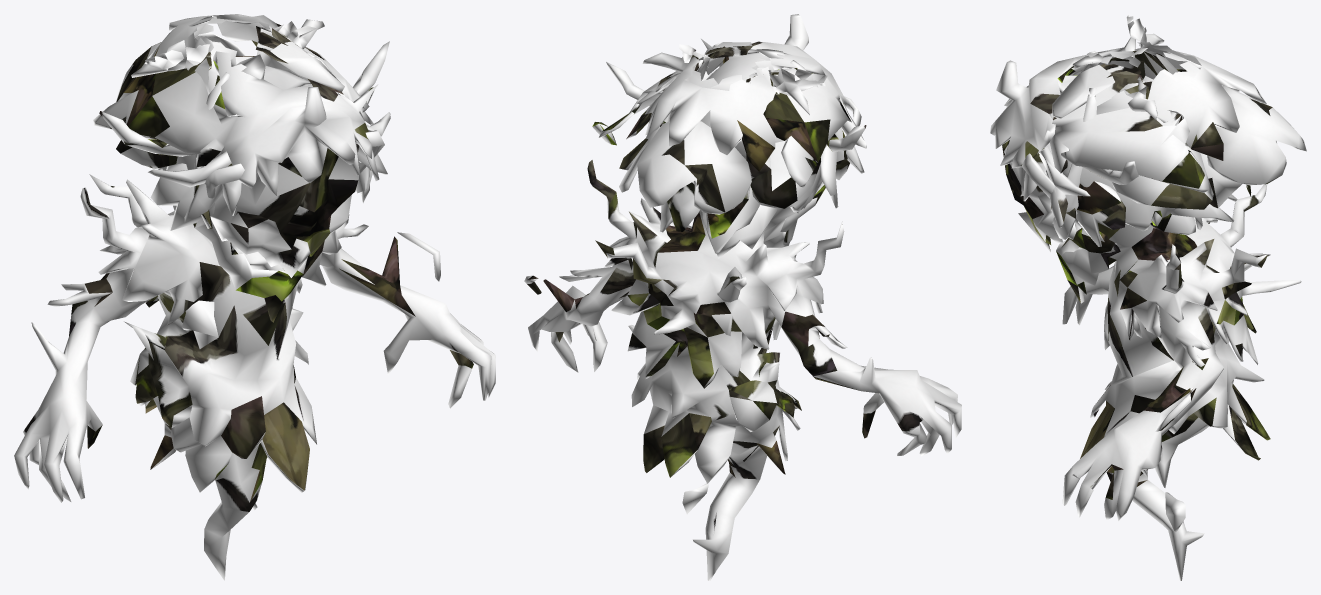
File: wither_sprite_basic_5k.fbx
The picture shows the model from 3 angles, left to right: view 1: azimuth 30°, elevation 25°; view 2: azimuth 150°, elevation 25°; view 3: azimuth 270°, elevation 25°; orthographic projection. The views are drawn at different scales.
Parts seen in each view (by area): view 1: wither_sprite_basic_decimated; view 2: wither_sprite_basic_decimated; view 3: wither_sprite_basic_decimated.
Boxes of the visible parts, left/top/right/bottom form: wither_sprite_basic_decimated: left=14, top=14, right=495, bottom=580; wither_sprite_basic_decimated: left=524, top=14, right=961, bottom=580; wither_sprite_basic_decimated: left=990, top=14, right=1306, bottom=580.
Bounding box in the file's own units: 1.43 × 1.67 × 0.9134.
